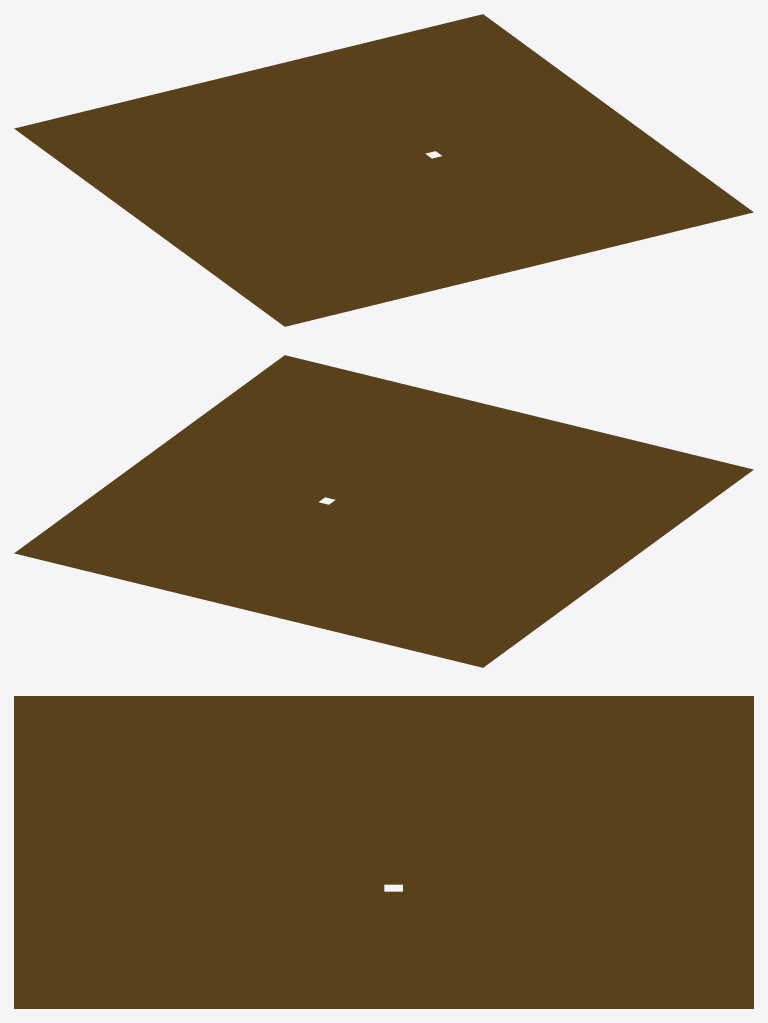
The model's file is Ground.fbx.
3 renders of one model, top to bottom at view 1: azimuth 30°, elevation 25°; view 2: azimuth 150°, elevation 25°; view 3: azimuth 270°, elevation 25°, orthographic. The views are drawn at different scales.
Visible parts, largest first — view 1: Boole; view 2: Boole; view 3: Boole.
Part boxes in pixels (x1,y1,x2,y2): Boole: (14, 14, 753, 326); Boole: (14, 355, 753, 667); Boole: (14, 696, 753, 1008).
Size of the model in its own units: 25000 by 0 by 25000.
